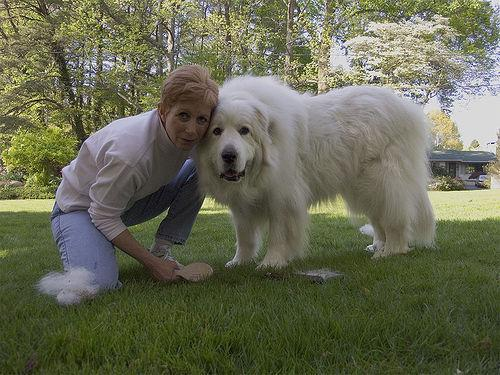Great_Pyrenees: (189, 69, 440, 274)
